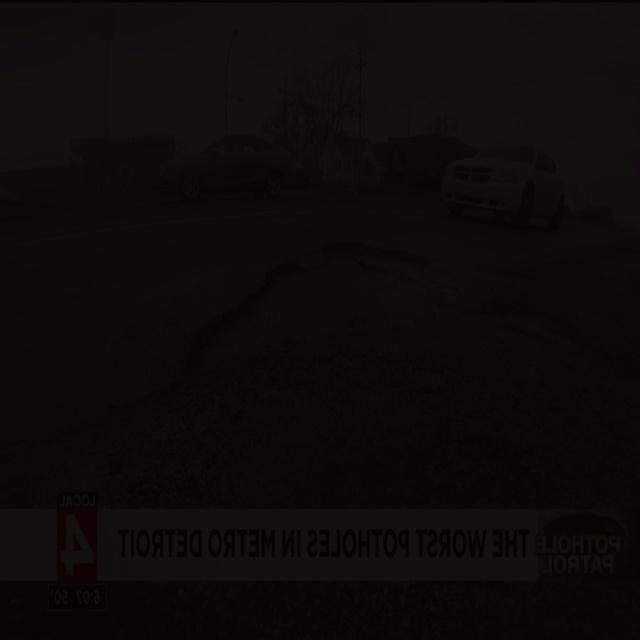Pothole: (184, 233, 461, 360)
